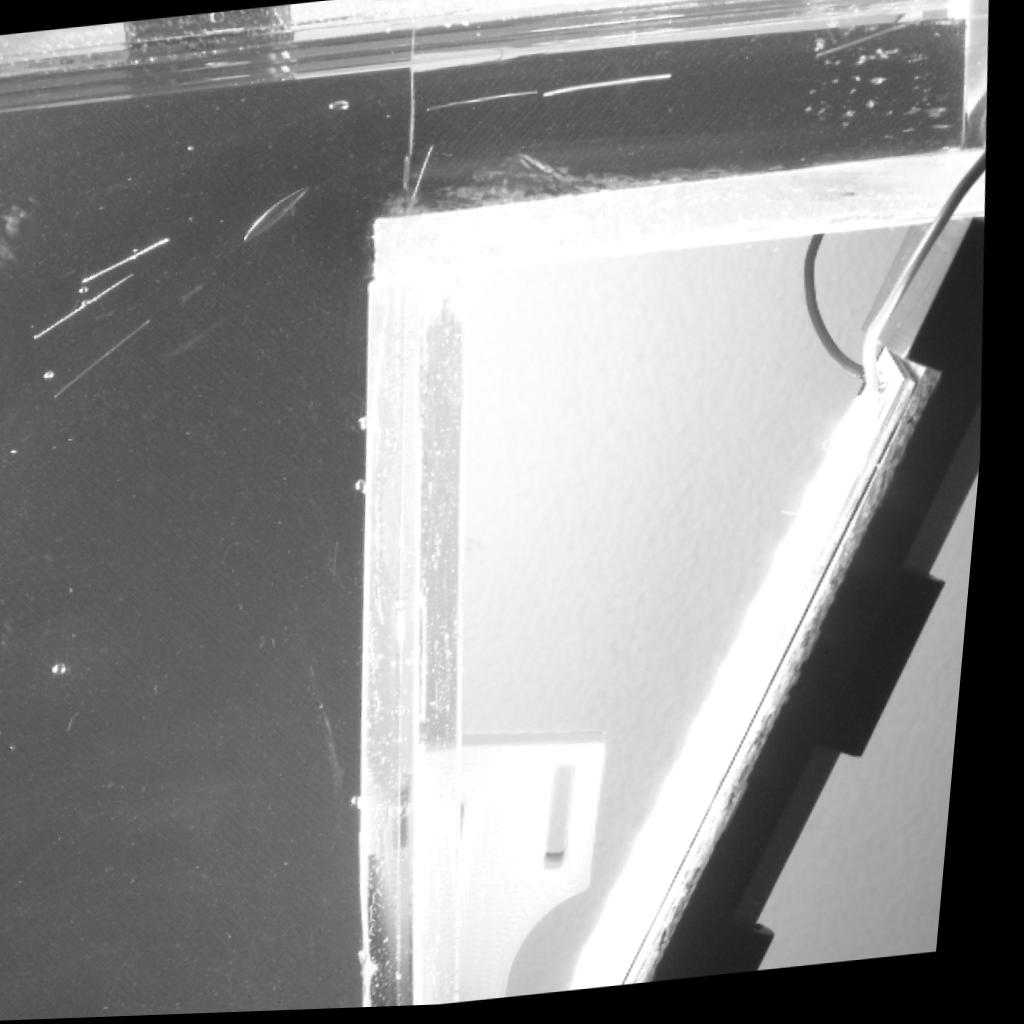Fiber: (58, 317, 159, 395), (40, 272, 140, 340), (82, 234, 175, 286), (813, 24, 921, 66), (419, 90, 541, 118), (537, 77, 672, 102), (398, 148, 437, 222)
